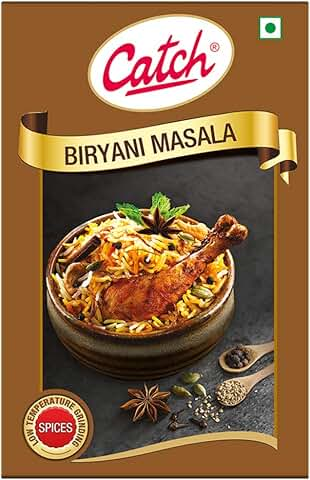Biryani: (7, 8, 308, 477)
